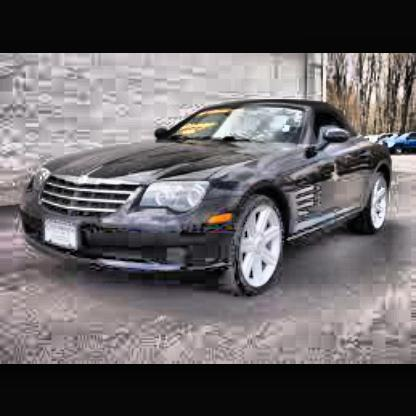Chrysler Crossfire Convertible 2008: (22, 103, 394, 302)
